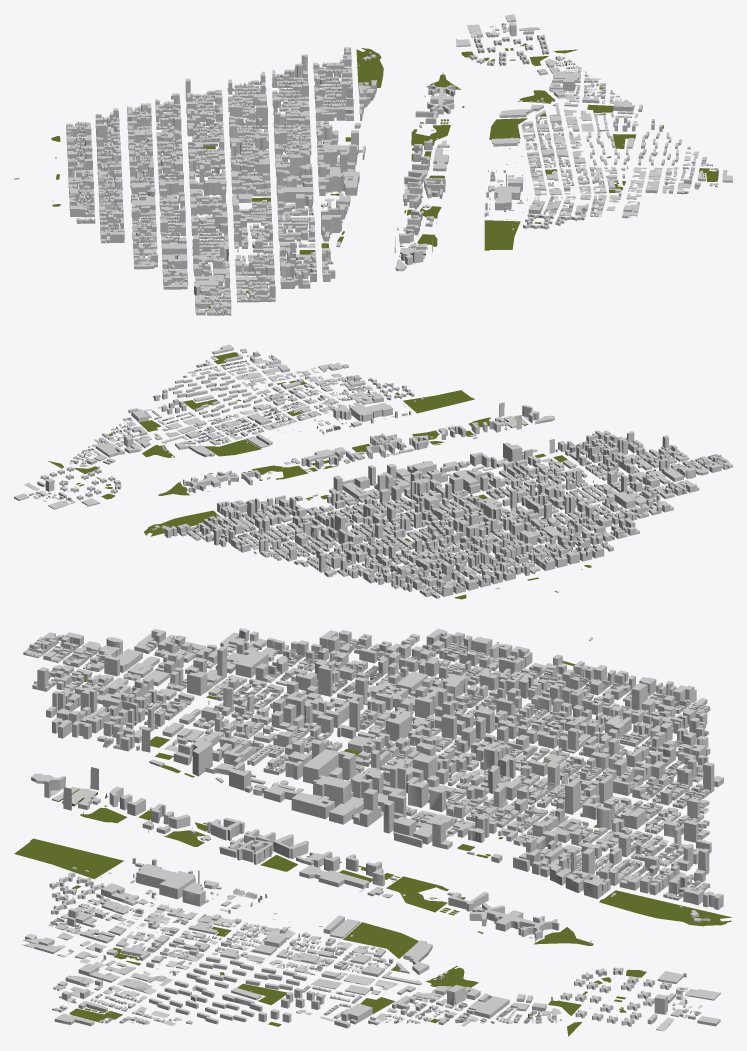
Rendered from area13_lod0-transformed.glb.
3 views of the same model, one above another, from view 1: azimuth 30°, elevation 25°; view 2: azimuth 150°, elevation 25°; view 3: azimuth 270°, elevation 25° (orthographic). The views are drawn at different scales.
Visible parts, largest first — view 1: Areas:building.004, Areas:leisure.003; view 2: Areas:building.004, Areas:leisure.003; view 3: Areas:building.004, Areas:leisure.003.
Part boxes in pixels (x1,y1,x2,y2): Areas:building.004: (14,14,732,315); Areas:leisure.003: (51,43,718,308); Areas:building.004: (14,344,732,598); Areas:leisure.003: (48,352,600,599); Areas:building.004: (21,628,723,1031); Areas:leisure.003: (14,661,732,1036).
Bounding box in the file's own units: 4381 × 149 × 3321.
